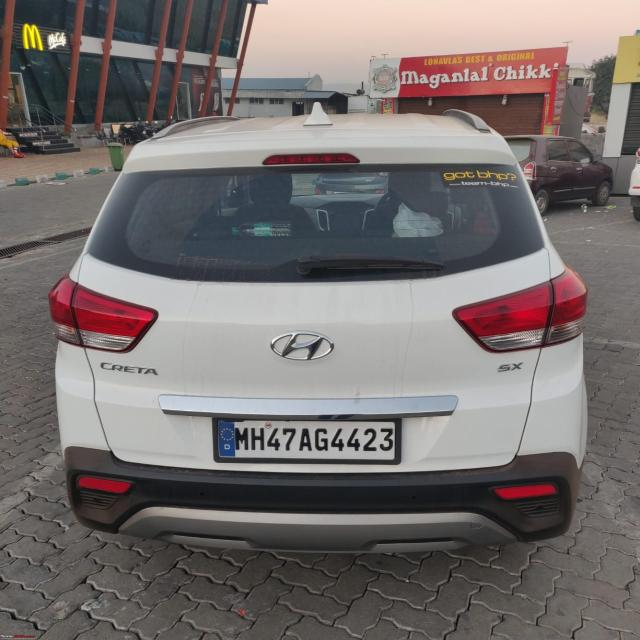number_plate: (211, 402, 422, 482)
